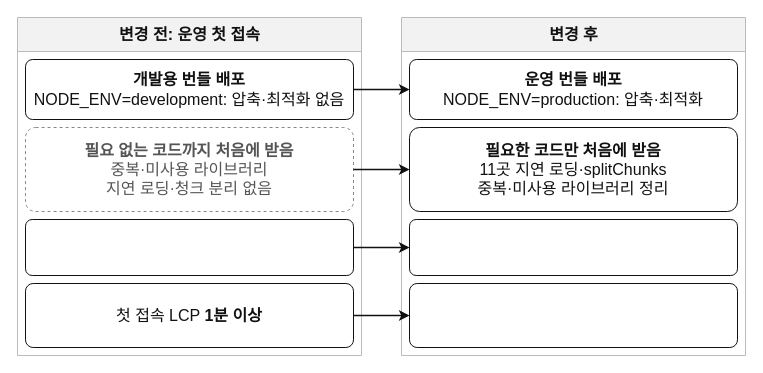
The diagram is 763 pixels wide and 373 high, and some of its shapes have lost their labels. The shapes that lost their labels are listed below. From the top down, each one's centre as x and y in pixels, then its label:
At [189,247]: "미국 리전 서버에서 직접 전달 14개 언어 사용자".
At [573,247]: "CloudFront 엣지에서 전달 사용자와 가까운 곳".
At [573,315]: "첫 접속 LCP 1초 번들 크기 약 46% 감소".
